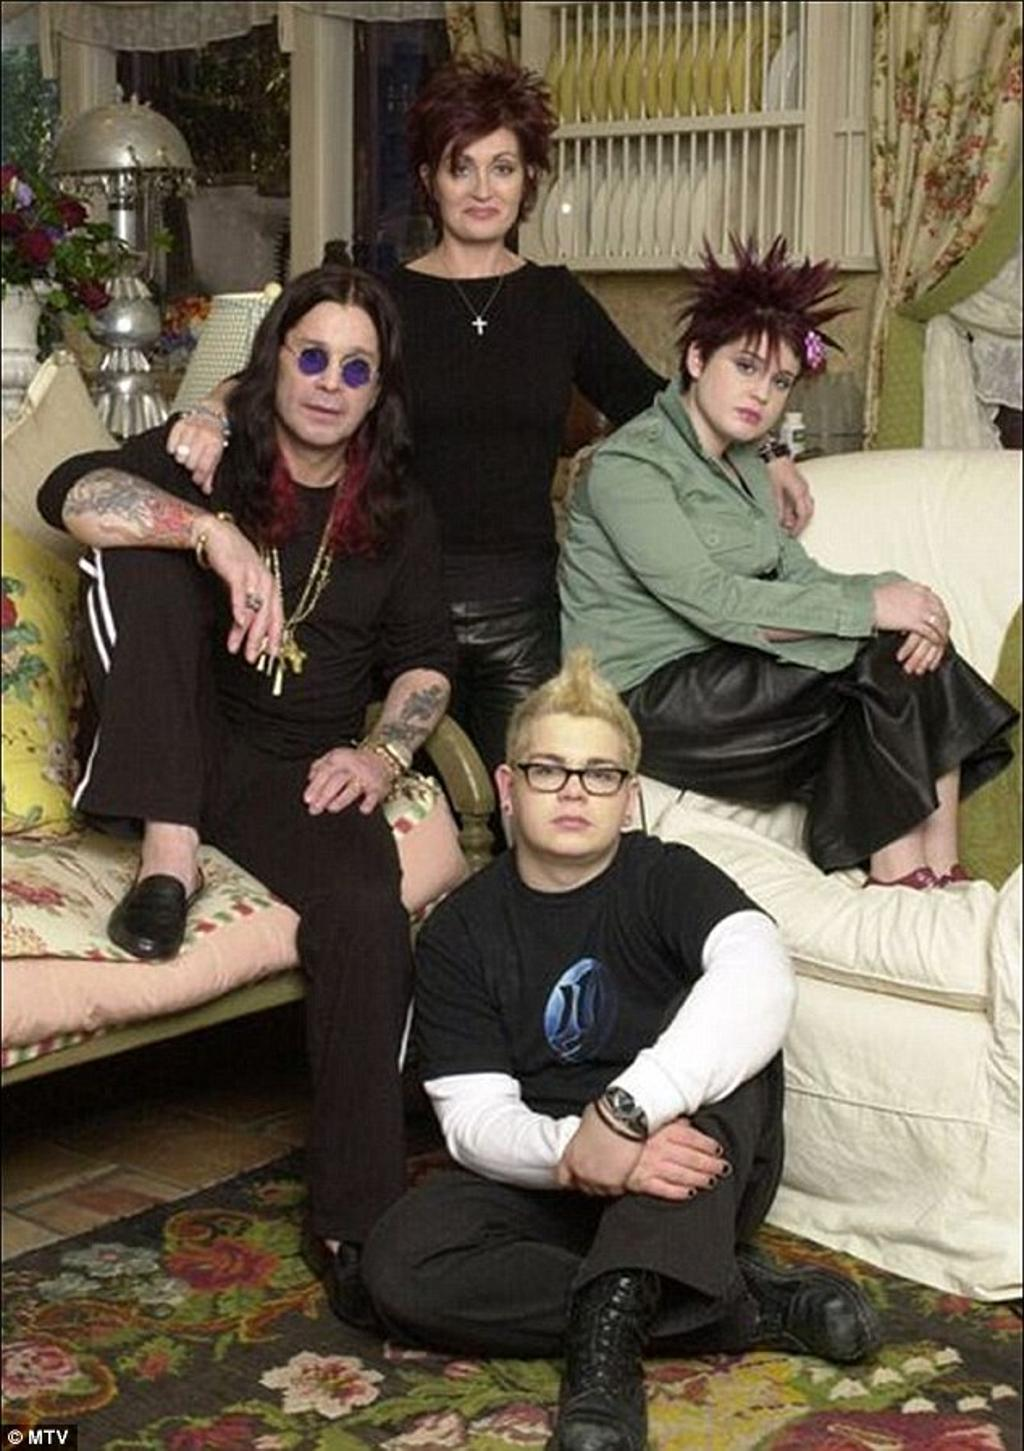face: (528, 723, 624, 851), (281, 309, 372, 439), (712, 329, 794, 434), (443, 128, 520, 239)
